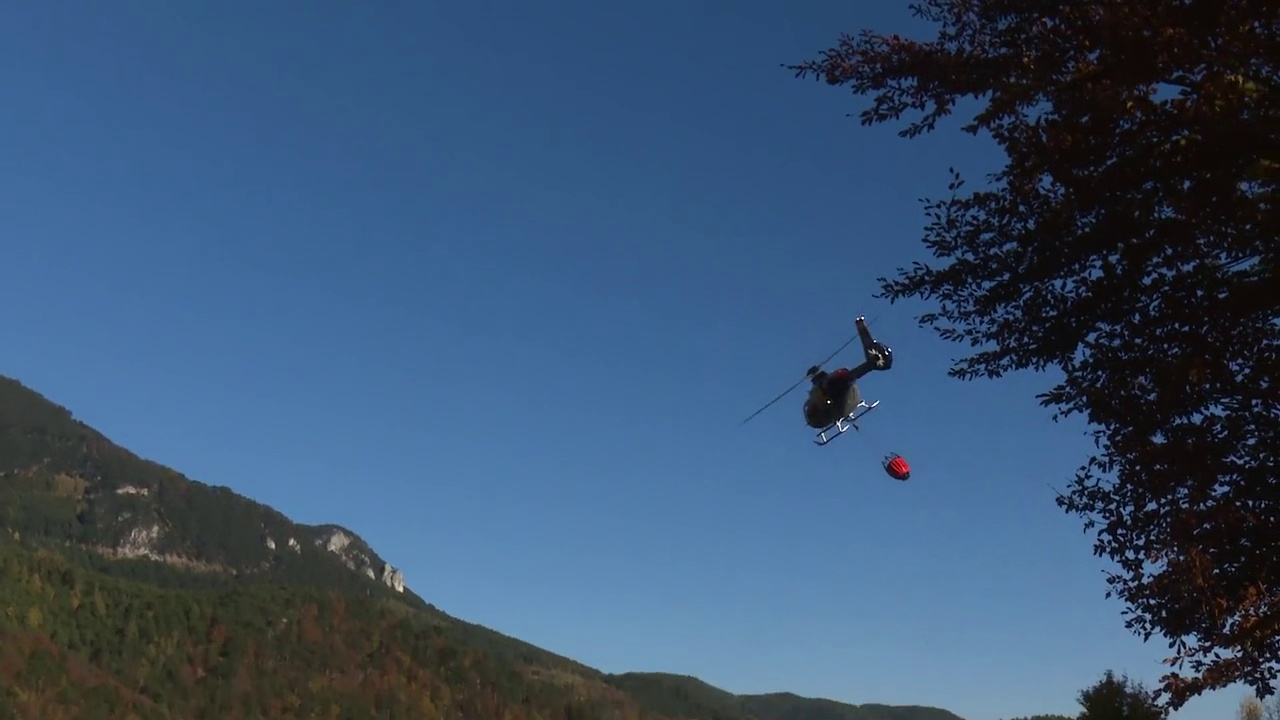heli: (744, 317, 892, 447)
